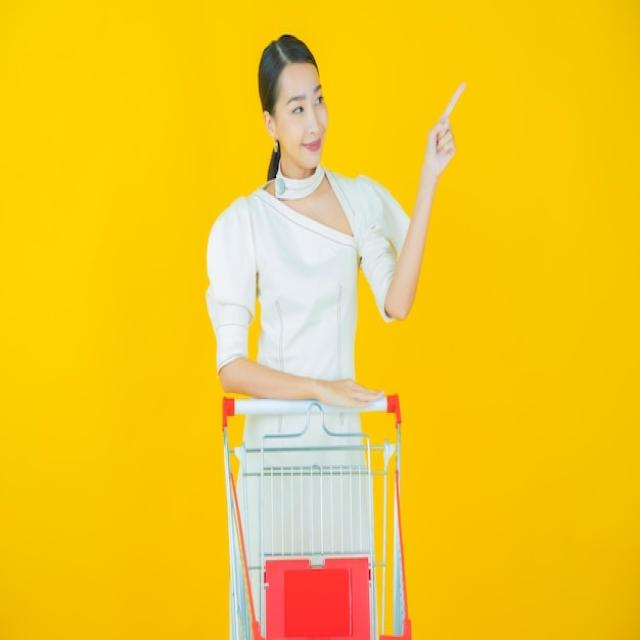Person: (206, 33, 466, 640)
